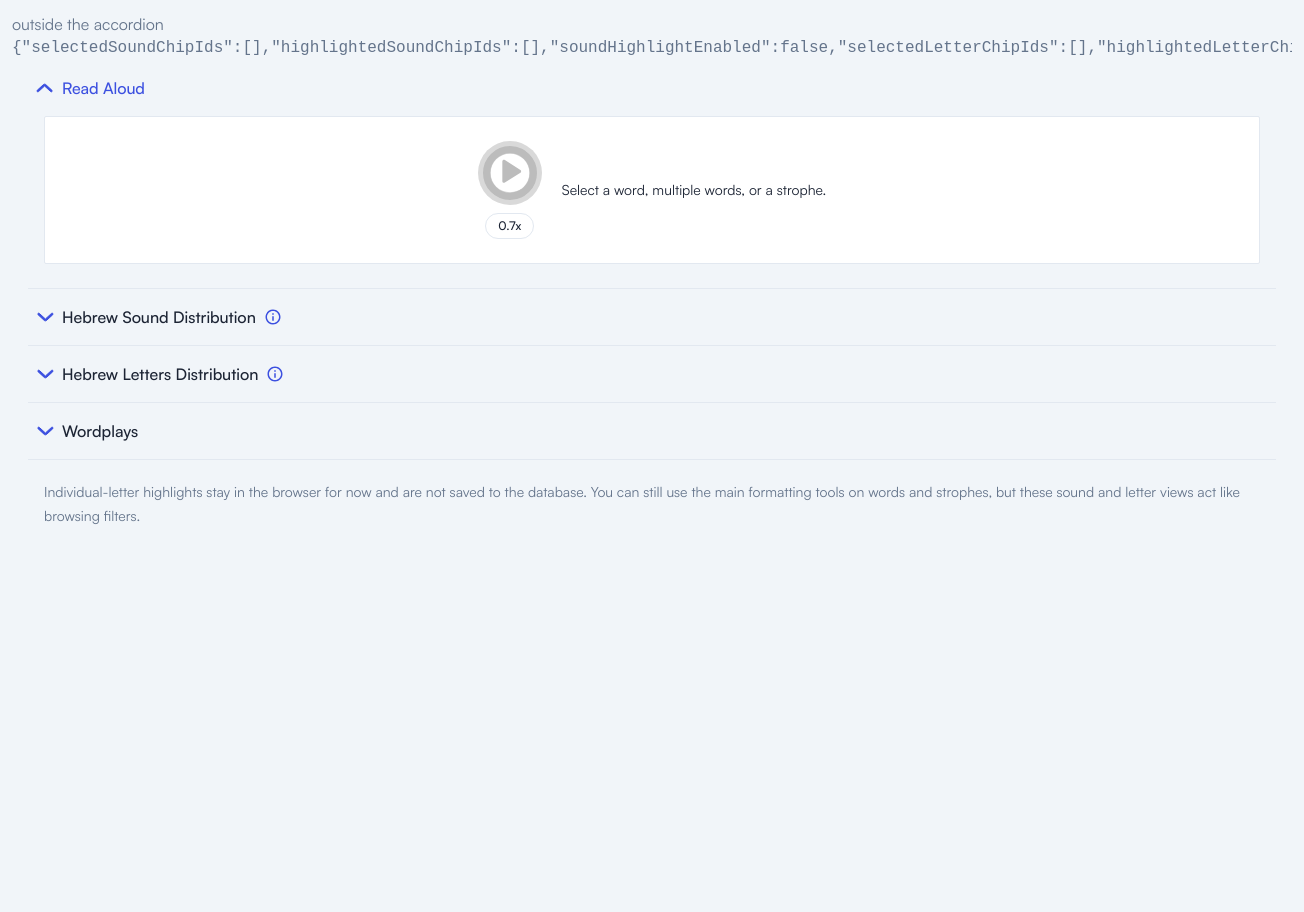
Test: count memos › sound 'm' chip shows the transliteration occurrence count (2 for 'mama')
Click the button "Hebrew Sound Distribution": coordinates (146, 317) [36,305,256,329]
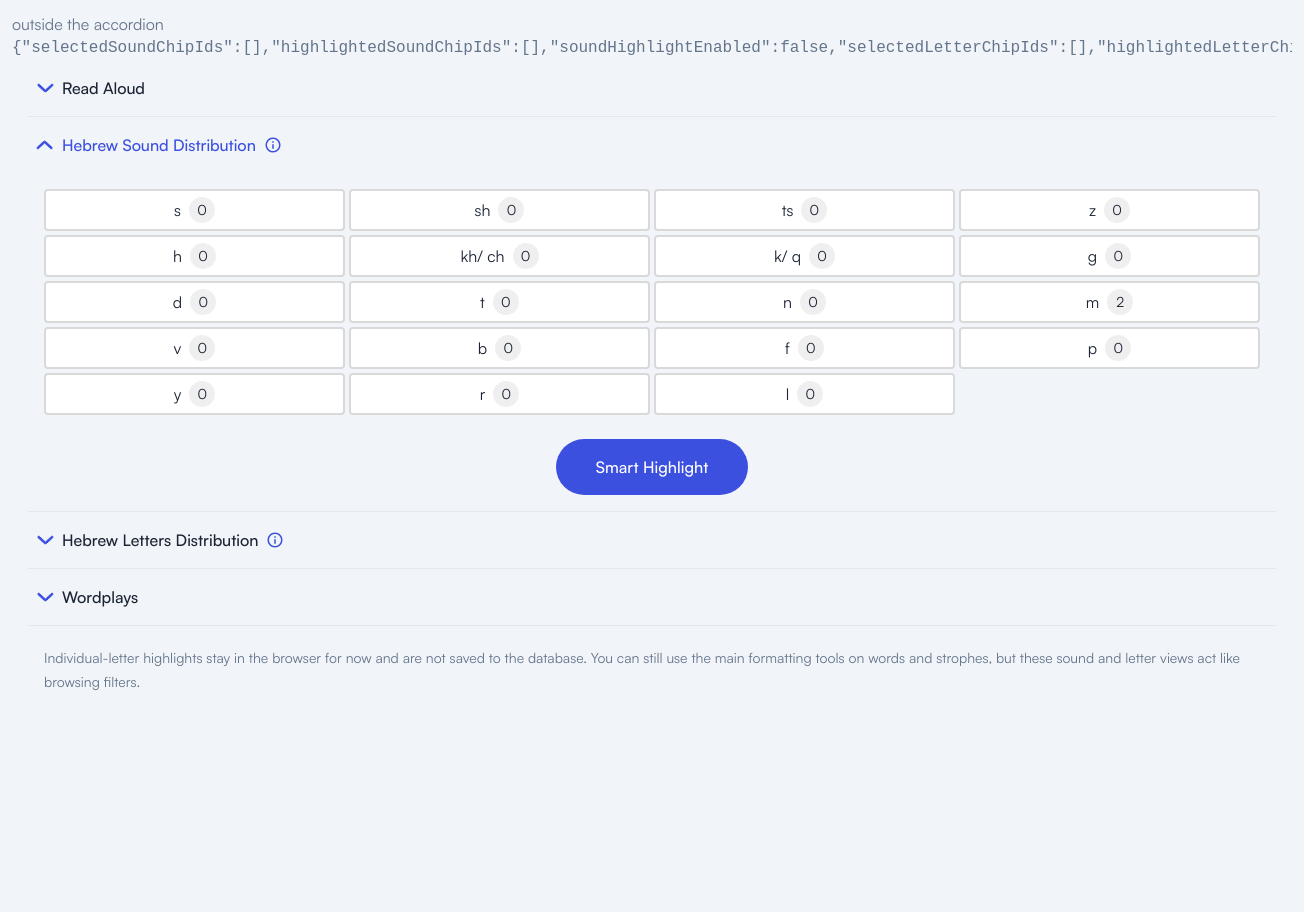
Expected: the text "2" is shown, [1107,289,1133,315]
